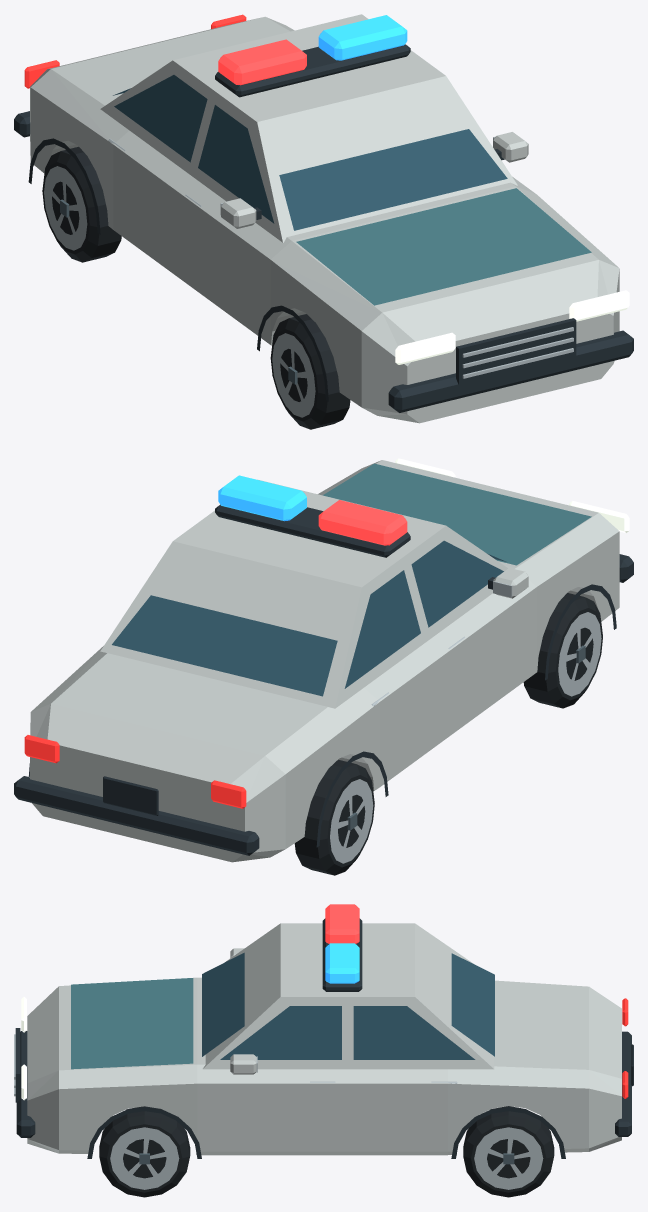
Rendered from police-car.glb.
3 renders of one model, top to bottom at view 1: azimuth 30°, elevation 25°; view 2: azimuth 150°, elevation 25°; view 3: azimuth 270°, elevation 25°, orthographic. The views are drawn at different scales.
Visible parts, largest first — view 1: Body_Body_paint, Body_Blue_tinted_glazing, Body_Accent, Body_Dark_trim, Wheel_FL_Tire_rubber, Wheel_RL_Tire_rubber, Light_B_lens, Light_R_lens, Body_Warm_headlamps, Wheel_FL_Brushed_alloy, Wheel_RL_Brushed_alloy, Body_Brushed_alloy (+1 smaller); view 2: Body_Body_paint, Body_Blue_tinted_glazing, Body_Dark_trim, Body_Accent, Wheel_RL_Tire_rubber, Wheel_FL_Tire_rubber, Light_R_lens, Light_B_lens, Wheel_FL_Brushed_alloy, Wheel_RL_Brushed_alloy, Body_Red_lens, Body_Warm_headlamps; view 3: Body_Body_paint, Body_Blue_tinted_glazing, Body_Accent, Body_Dark_trim, Wheel_RR_Tire_rubber, Wheel_FR_Tire_rubber, Wheel_RR_Brushed_alloy, Wheel_FR_Brushed_alloy, Light_B_lens, Light_R_lens.
Boxes of the visible parts, x1,y1,x2,y2 form: Body_Body_paint: (30, 14, 619, 423); Body_Blue_tinted_glazing: (113, 75, 507, 230); Body_Accent: (296, 188, 591, 305); Body_Dark_trim: (14, 44, 633, 412); Wheel_FL_Tire_rubber: (270, 314, 350, 429); Wheel_RL_Tire_rubber: (42, 146, 121, 262); Light_B_lens: (318, 15, 407, 60); Light_R_lens: (218, 39, 306, 85); Body_Warm_headlamps: (395, 290, 629, 364); Wheel_FL_Brushed_alloy: (272, 333, 315, 417); Wheel_RL_Brushed_alloy: (44, 166, 87, 250); Body_Brushed_alloy: (108, 136, 573, 378); Body_Body_paint: (30, 460, 619, 862); Body_Blue_tinted_glazing: (112, 540, 506, 696); Body_Dark_trim: (14, 504, 633, 855); Body_Accent: (323, 463, 591, 565); Wheel_RL_Tire_rubber: (294, 759, 374, 875); Wheel_FL_Tire_rubber: (523, 593, 602, 708); Light_R_lens: (318, 500, 407, 545); Light_B_lens: (218, 475, 306, 521); Wheel_FL_Brushed_alloy: (558, 612, 601, 696); Wheel_RL_Brushed_alloy: (330, 779, 373, 863); Body_Red_lens: (24, 735, 246, 808); Body_Warm_headlamps: (395, 458, 629, 533); Body_Body_paint: (27, 923, 621, 1155); Body_Blue_tinted_glazing: (202, 952, 494, 1059); Body_Accent: (71, 978, 193, 1069); Body_Dark_trim: (15, 918, 633, 1158); Wheel_RR_Tire_rubber: (463, 1106, 554, 1197); Wheel_FR_Tire_rubber: (99, 1106, 190, 1197); Wheel_RR_Brushed_alloy: (474, 1127, 543, 1189); Wheel_FR_Brushed_alloy: (110, 1127, 179, 1189); Light_B_lens: (325, 943, 359, 983); Light_R_lens: (325, 904, 359, 943).
Size of the model in its own units: 2.06 by 1.74 by 4.7.
